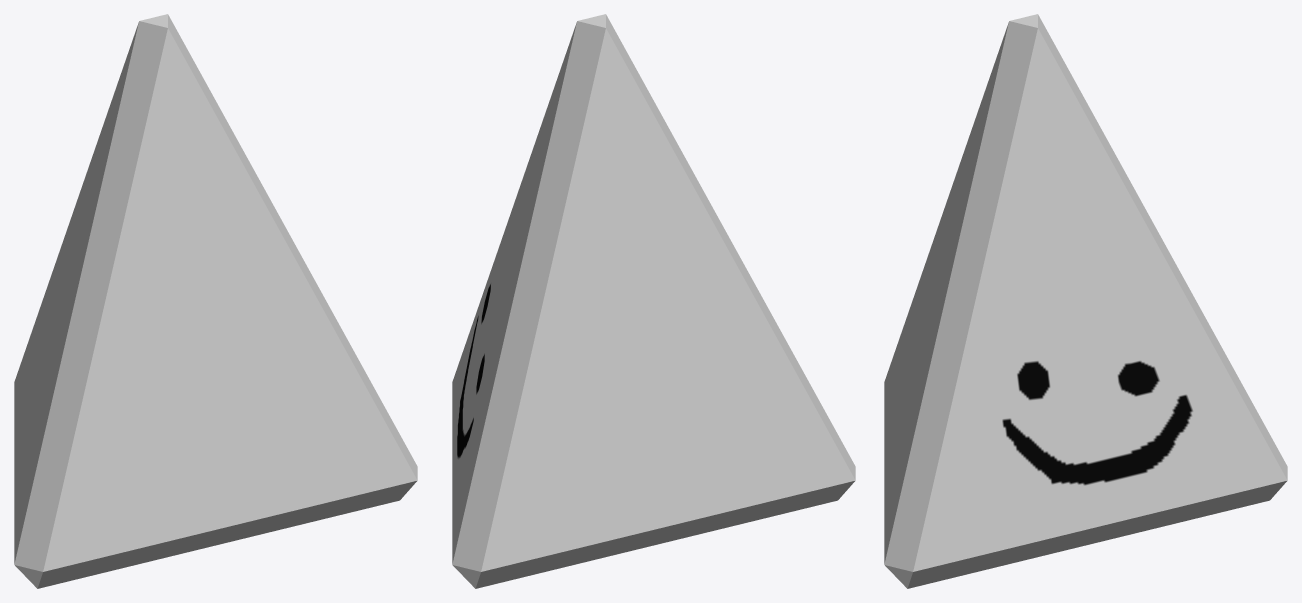
3 views of the same model, side by side, from view 1: azimuth 30°, elevation 25°; view 2: azimuth 150°, elevation 25°; view 3: azimuth 270°, elevation 25° (orthographic).
Parts seen in each view (by area): view 1: Cone; view 2: Cone, face; view 3: Cone, face.
Boxes of the visible parts, bbox=[...] form: Cone: bbox=[14, 14, 417, 588]; Cone: bbox=[452, 14, 855, 588]; face: bbox=[457, 284, 490, 458]; Cone: bbox=[884, 14, 1287, 588]; face: bbox=[1002, 361, 1192, 485].
Bounding box in the file's own units: 0.7686 × 0.8732 × 0.6657.
1 material, 1 textured.
